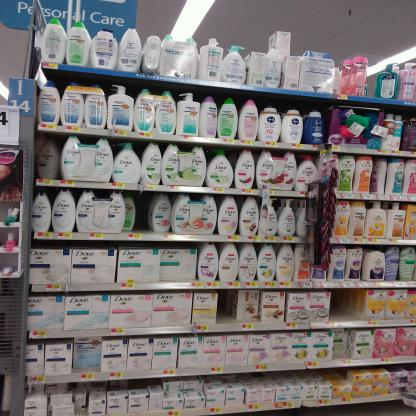Void: (334, 293, 357, 318), (134, 193, 148, 230), (222, 291, 234, 326)
